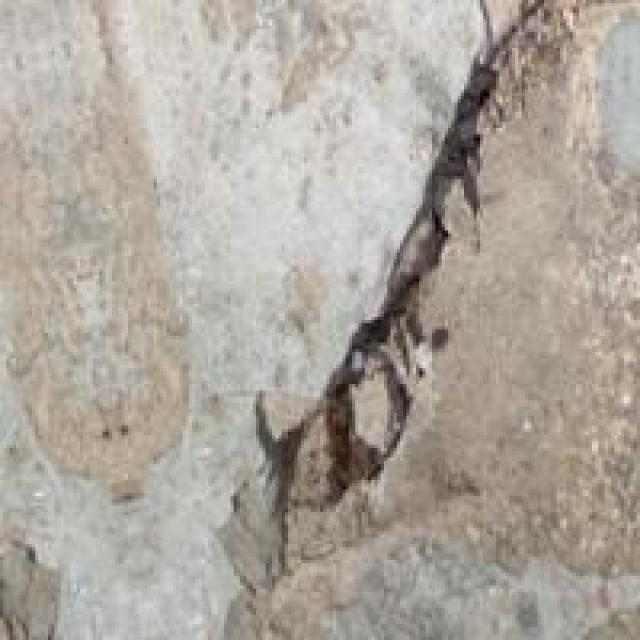crack: (237, 22, 531, 582)
